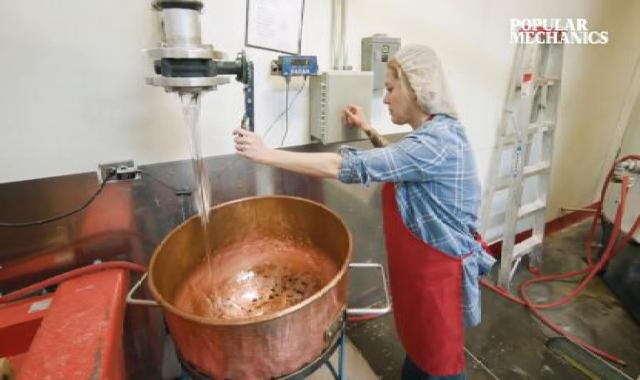hairnet: (384, 42, 472, 128)
